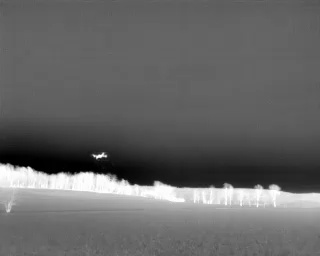DRONE: (88, 147, 112, 164)
